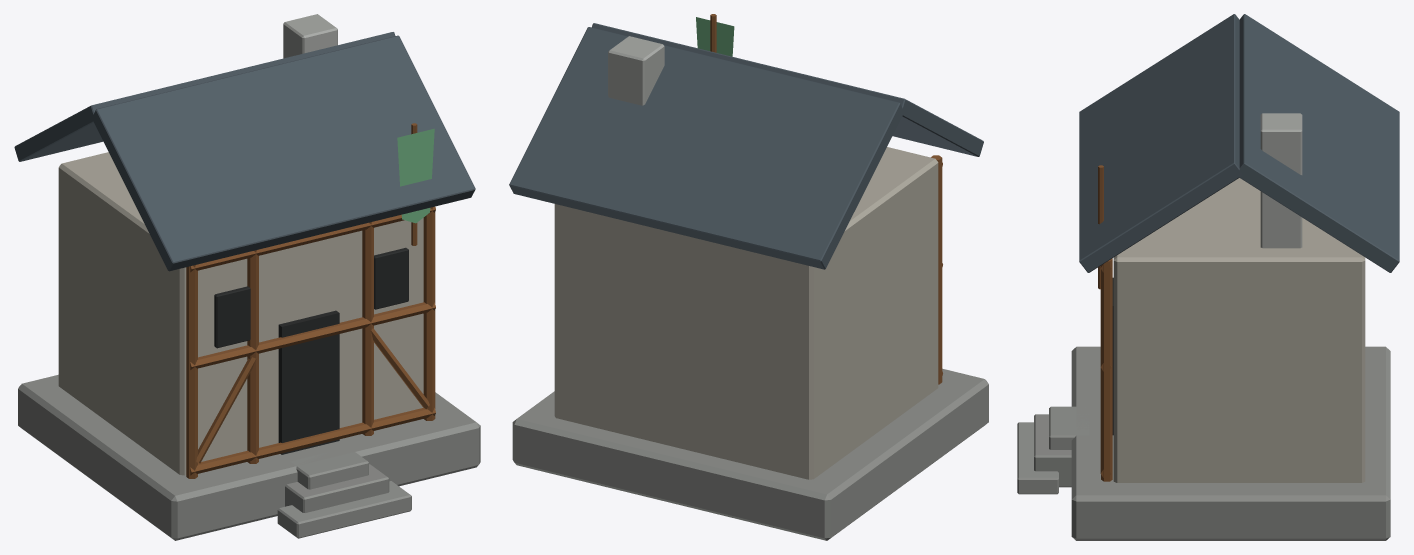
File: edificio-house-e2-SsS9jrlC.glb
3 views of the same model, side by side, from view 1: azimuth 30°, elevation 25°; view 2: azimuth 150°, elevation 25°; view 3: azimuth 270°, elevation 25° (orthographic). The views are drawn at different scales.
Visible parts, largest first — view 1: casa_e2_envolvente, casa_e2_detalles, casa_e2_team_color; view 2: casa_e2_envolvente, casa_e2_detalles, casa_e2_team_color; view 3: casa_e2_envolvente, casa_e2_detalles.
Boxes of the visible parts, bbox=[...] form: casa_e2_envolvente: bbox=[18, 152, 480, 540]; casa_e2_detalles: bbox=[14, 14, 475, 478]; casa_e2_team_color: bbox=[397, 128, 434, 223]; casa_e2_envolvente: bbox=[512, 147, 988, 540]; casa_e2_detalles: bbox=[509, 14, 983, 384]; casa_e2_team_color: bbox=[696, 17, 734, 56]; casa_e2_envolvente: bbox=[1017, 178, 1390, 540]; casa_e2_detalles: bbox=[1079, 14, 1399, 481].
Bounding box in the file's own units: 43 × 51 × 45.6.
